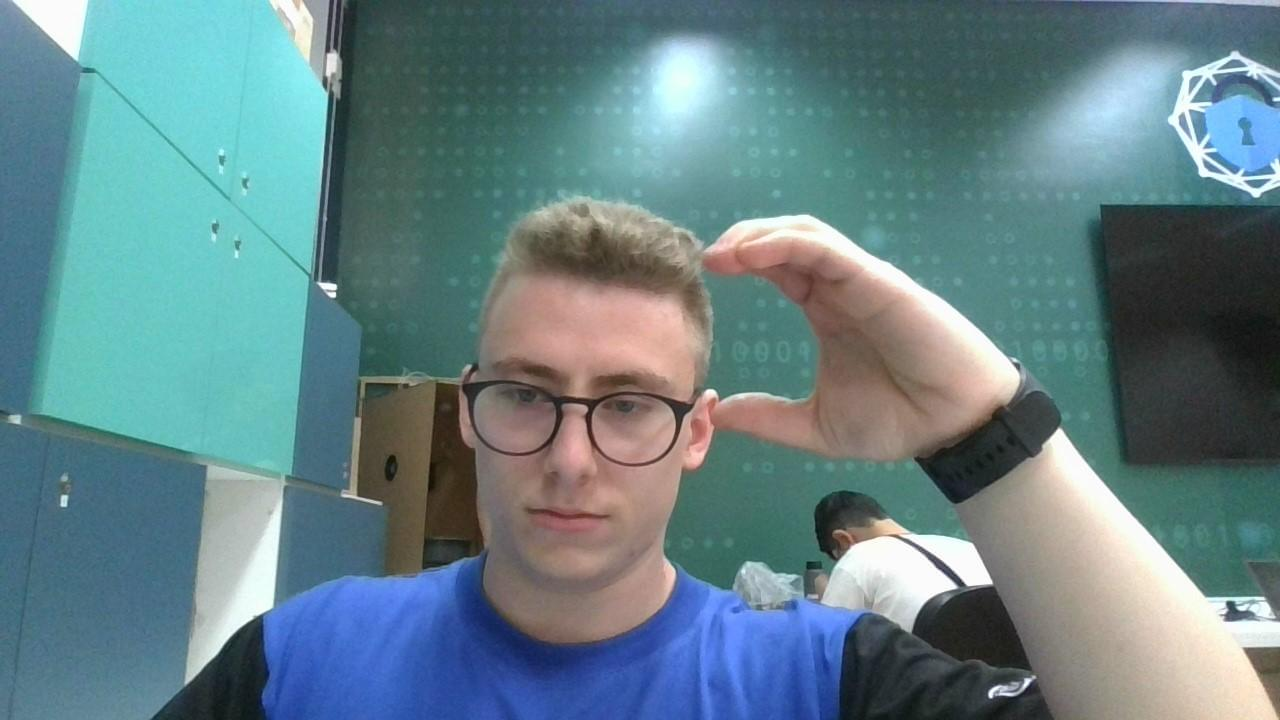C: (692, 212, 974, 454)
